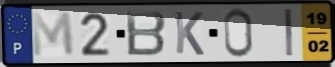0: (221, 6, 255, 59)
2: (78, 11, 113, 58)
B: (123, 9, 168, 58)
I: (283, 7, 295, 58)
K: (173, 10, 206, 57)
M: (29, 10, 77, 59)
